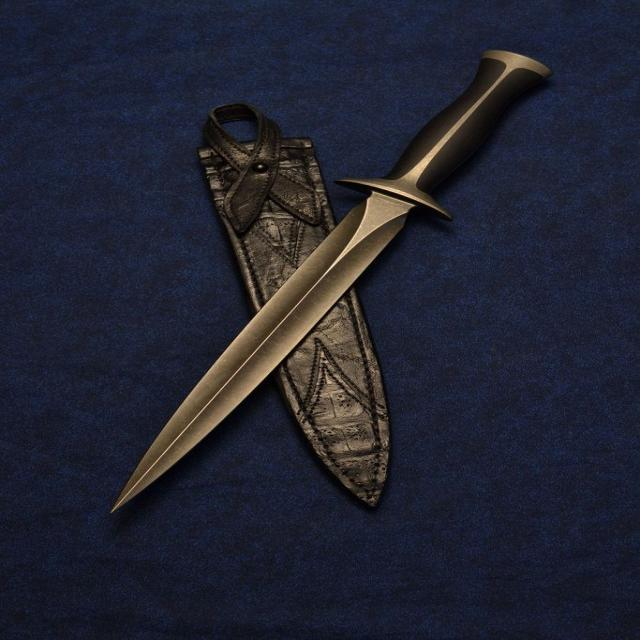short sword: (109, 44, 558, 552)
